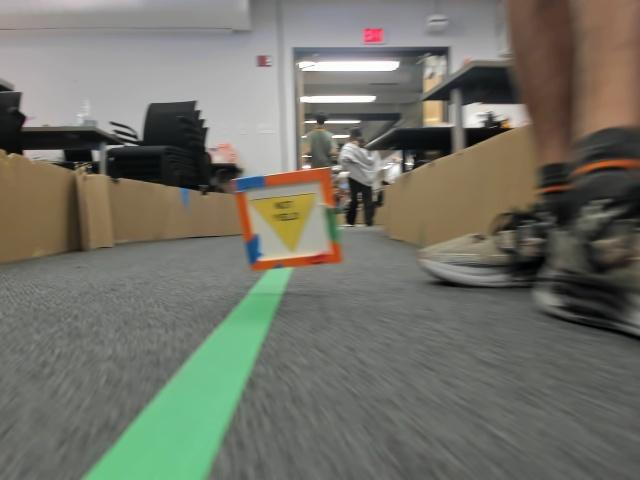Do Not Yield: (250, 199, 320, 255)
